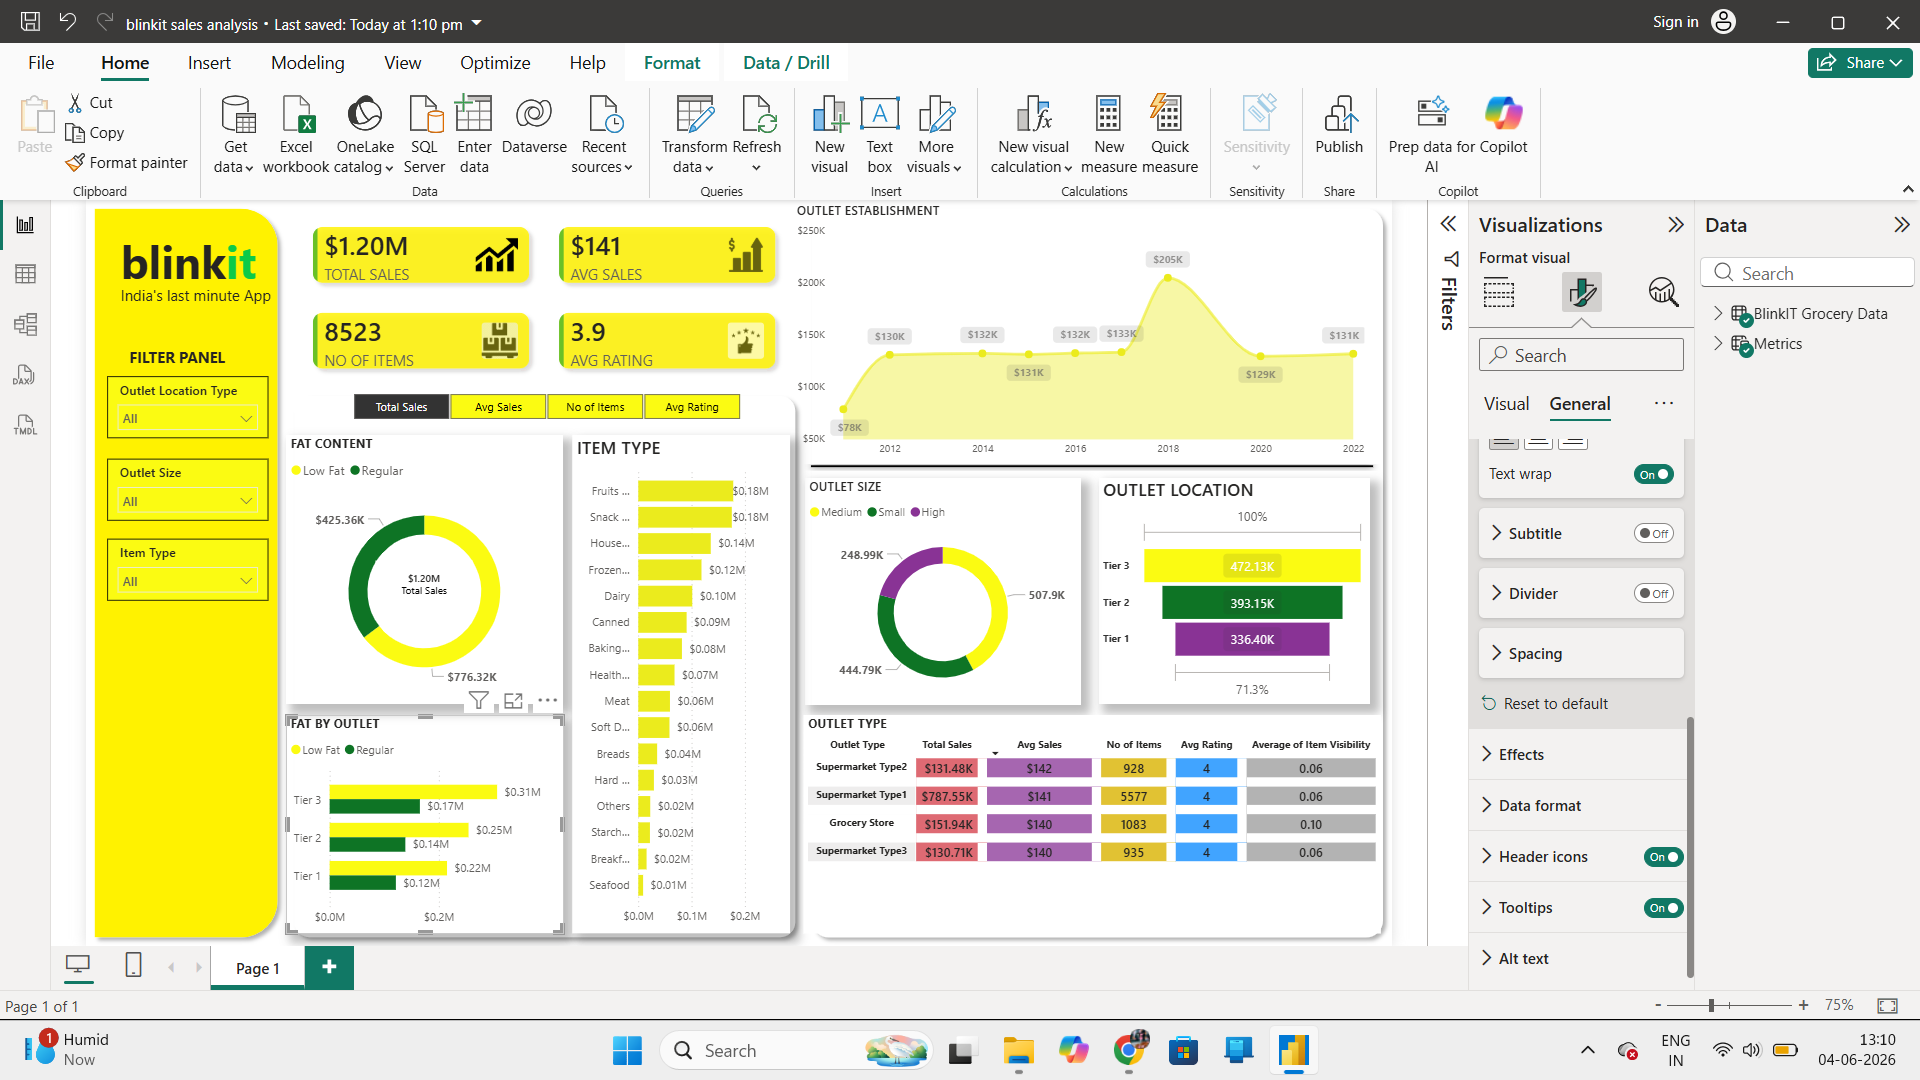

The dashboard page shown, as its layout file describes it:
{"tool":"powerbi","page":{"name":"Page 1","canvas":[1400,800],"ordinal":0},"visuals":[{"type":"shape","box":[0,0,214.5,800],"z":0},{"type":"textbox","box":[32.4,27.9,163.2,94.1],"z":1000},{"type":"textbox","box":[32.4,85.3,182.4,36.8],"z":2000},{"type":"cardVisual","fields":{"Data":["BlinkIT Grocery Data.Total Sales","BlinkIT Grocery Data.Avg Sales","BlinkIT Grocery Data.No of Items","BlinkIT Grocery Data.Avg Rating"]},"box":[214.5,0,555.1,211.6],"z":3000},{"type":"shape","box":[214.5,201.4,555.1,598.6],"z":4000},{"type":"donutChart","title":"FAT CONTENT","fields":{"Y":["BlinkIT Grocery Data.Total Sales"],"Category":["BlinkIT Grocery Data.Item Fat Content"]},"box":[214.5,252.2,297.1,288.4],"z":5000},{"type":"slicer","fields":{"Values":["Metrics.Metrics"]},"box":[260.9,201.4,463.8,40.6],"z":6000},{"type":"cardVisual","fields":{"Data":["BlinkIT Grocery Data.Total Sales"]},"box":[305.8,382.6,114.5,59.4],"z":7000},{"type":"clusteredBarChart","title":"FAT BY OUTLET","fields":{"Y":["BlinkIT Grocery Data.Total Sales"],"Category":["BlinkIT Grocery Data.Outlet Location Type"],"Series":["BlinkIT Grocery Data.Item Fat Content"]},"box":[214.5,552.2,297.1,234.8],"z":8000},{"type":"barChart","title":"ITEM TYPE","fields":{"Y":["BlinkIT Grocery Data.Total Sales"],"Category":["BlinkIT Grocery Data.Item Type"]},"box":[521.7,252.2,233.3,534.8],"z":9000},{"type":"shape","box":[769.6,0,630.4,800],"z":10000},{"type":"lineChart","title":"OUTLET ESTABLISHMENT","fields":{"Y":["BlinkIT Grocery Data.Total Sales"],"Category":["BlinkIT Grocery Data.Outlet Establishment Year"]},"box":[758,1.4,618.8,282.6],"z":11000},{"type":"shape","box":[769.6,276.8,618.8,13],"z":12000},{"type":"donutChart","title":"OUTLET SIZE","fields":{"Y":["Sum(BlinkIT Grocery Data.Sales)"],"Category":["BlinkIT Grocery Data.Outlet Size"]},"box":[770.8,297.6,296.2,244],"z":13000},{"type":"funnel","title":"OUTLET LOCATION","fields":{"Y":["Sum(BlinkIT Grocery Data.Sales)"],"Category":["BlinkIT Grocery Data.Outlet Location Type"]},"box":[1085.5,297.1,291.3,243.5],"z":14000},{"type":"pivotTable","title":"OUTLET TYPE","fields":{"Rows":["BlinkIT Grocery Data.Outlet Type"],"Values":["BlinkIT Grocery Data.Total Sales","BlinkIT Grocery Data.Avg Sales","BlinkIT Grocery Data.No of Items","BlinkIT Grocery Data.Avg Rating","Avg(BlinkIT Grocery Data.Item Visibility)"]},"box":[769.4,552.3,619.3,234.6],"z":15000},{"type":"slicer","fields":{"Values":["BlinkIT Grocery Data.Outlet Location Type"]},"box":[23.2,188.4,172.5,66.7],"z":16000},{"type":"slicer","fields":{"Values":["BlinkIT Grocery Data.Outlet Size"]},"box":[23.2,276.8,172.5,66.7],"z":17000},{"type":"slicer","fields":{"Values":["BlinkIT Grocery Data.Item Type"]},"box":[23.2,363.8,172.5,66.7],"z":18000},{"type":"textbox","box":[42,152.2,144.9,36.2],"z":19000}]}

Visuals, with their boxes on the page's 1400x800 design canvas (x1, y1, x2, y2). These are canvas units, not pixel positions in the 1920x1080 screenshot, which may show the page scaled, cropped or inside an application window:
shape: (left=0, top=0, right=214, bottom=800)
textbox: (left=32, top=28, right=196, bottom=122)
textbox: (left=32, top=85, right=215, bottom=122)
cardVisual - BlinkIT Grocery Data.Total Sales x BlinkIT Grocery Data.Avg Sales: (left=214, top=0, right=770, bottom=212)
shape: (left=214, top=201, right=770, bottom=800)
"FAT CONTENT" donutChart: (left=214, top=252, right=512, bottom=541)
slicer - Metrics.Metrics: (left=261, top=201, right=725, bottom=242)
cardVisual - BlinkIT Grocery Data.Total Sales: (left=306, top=383, right=420, bottom=442)
"FAT BY OUTLET" clusteredBarChart: (left=214, top=552, right=512, bottom=787)
"ITEM TYPE" barChart: (left=522, top=252, right=755, bottom=787)
shape: (left=770, top=0, right=1400, bottom=800)
"OUTLET ESTABLISHMENT" lineChart: (left=758, top=1, right=1377, bottom=284)
shape: (left=770, top=277, right=1388, bottom=290)
"OUTLET SIZE" donutChart: (left=771, top=298, right=1067, bottom=542)
"OUTLET LOCATION" funnel: (left=1086, top=297, right=1377, bottom=541)
"OUTLET TYPE" pivotTable: (left=769, top=552, right=1389, bottom=787)
slicer - BlinkIT Grocery Data.Outlet Location Type: (left=23, top=188, right=196, bottom=255)
slicer - BlinkIT Grocery Data.Outlet Size: (left=23, top=277, right=196, bottom=344)
slicer - BlinkIT Grocery Data.Item Type: (left=23, top=364, right=196, bottom=430)
textbox: (left=42, top=152, right=187, bottom=188)
